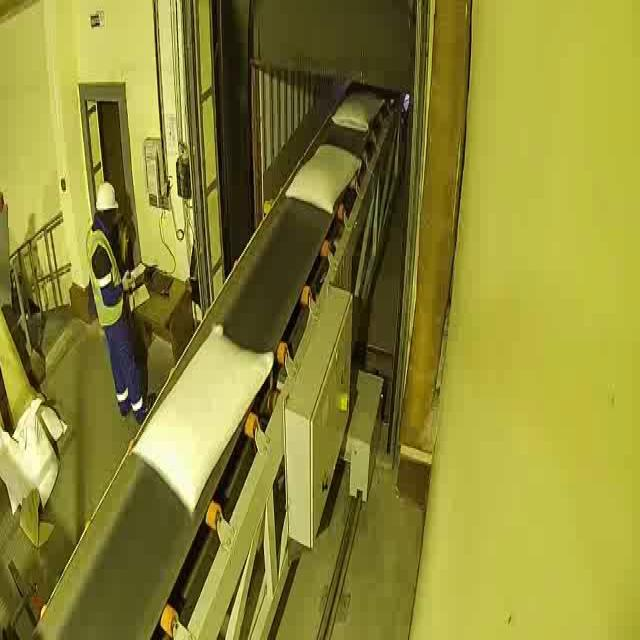bag: (132, 322, 273, 512), (284, 144, 358, 215), (332, 89, 387, 131)
